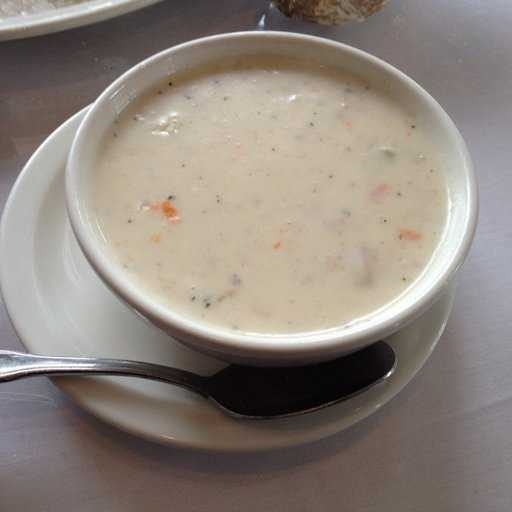soup: (101, 43, 448, 330)
